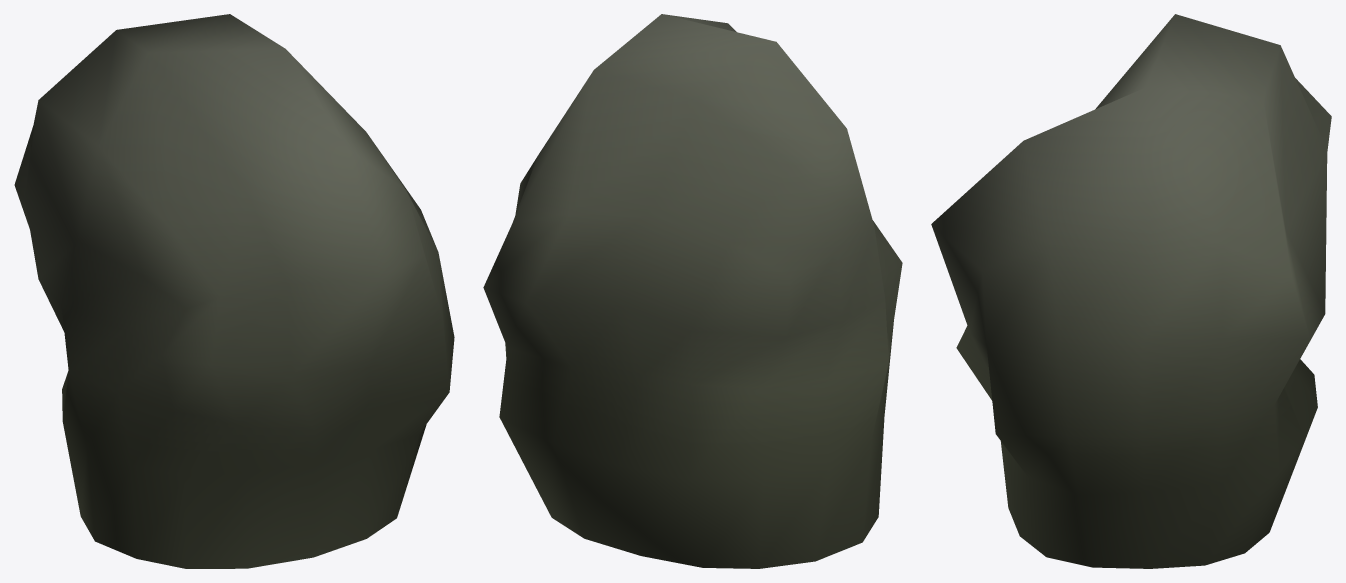
Rendered from WE02_Brush16.fbx.
The picture shows the model from 3 angles, left to right: view 1: azimuth 30°, elevation 25°; view 2: azimuth 150°, elevation 25°; view 3: azimuth 270°, elevation 25°; orthographic projection. The views are drawn at different scales.
Parts seen in each view (by area): view 1: WE02_Brush16; view 2: WE02_Brush16; view 3: WE02_Brush16.
Boxes of the visible parts, x1,y1,x2,y2 form: WE02_Brush16: (14,14,454,568); WE02_Brush16: (483,14,902,568); WE02_Brush16: (931,14,1331,568).
Size of the model in its own units: 6.07 by 7.59 by 6.06.
